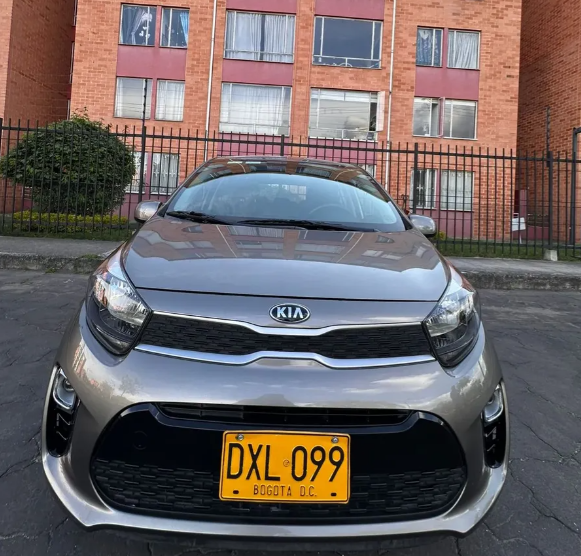placa: (221, 430, 351, 504)
